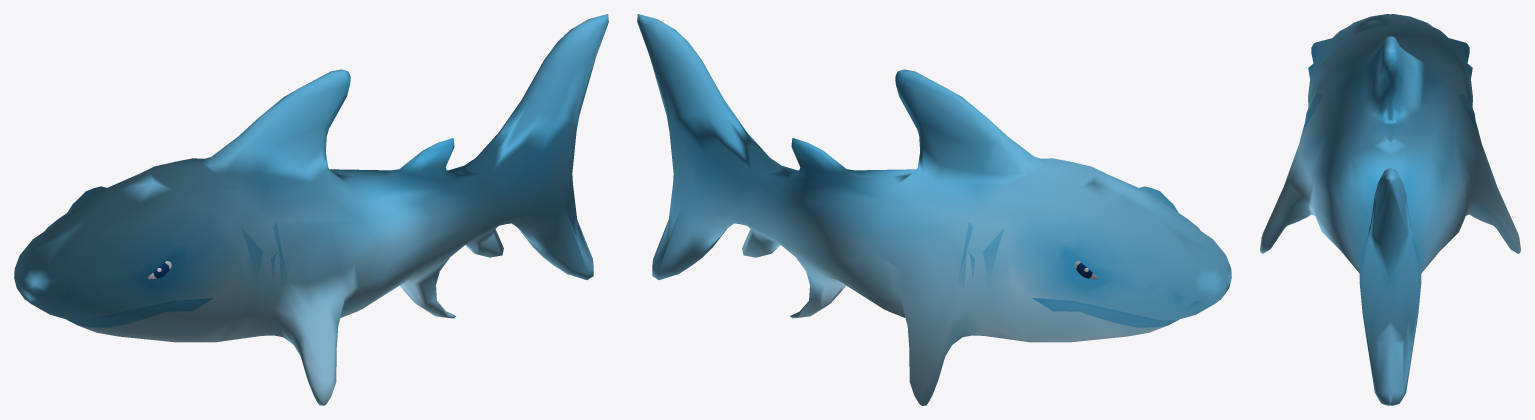
Rendered from shark.glb.
3 views of the same model, side by side, from view 1: azimuth 30°, elevation 25°; view 2: azimuth 150°, elevation 25°; view 3: azimuth 270°, elevation 25° (orthographic). The views are drawn at different scales.
Parts seen in each view (by area): view 1: shark; view 2: shark; view 3: shark.
Part boxes in pixels (box(x1,y1,x2,y2)): shark: box(14, 14, 608, 405); shark: box(637, 14, 1231, 405); shark: box(1260, 14, 1520, 405).
Bounding box in the file's own units: 3.14 × 1.41 × 1.3.
1 material, 1 textured.
